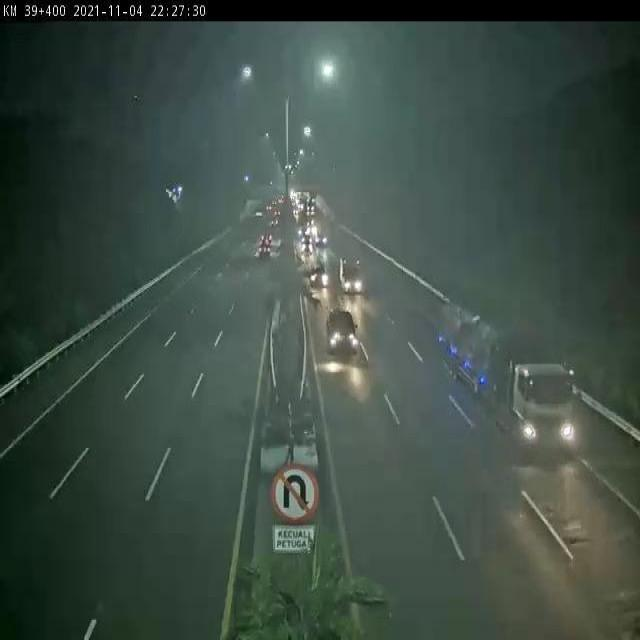car: (326, 305, 360, 355), (309, 262, 328, 290)
truck-s-: (337, 252, 364, 295)
truck-xl-: (441, 306, 574, 454)
